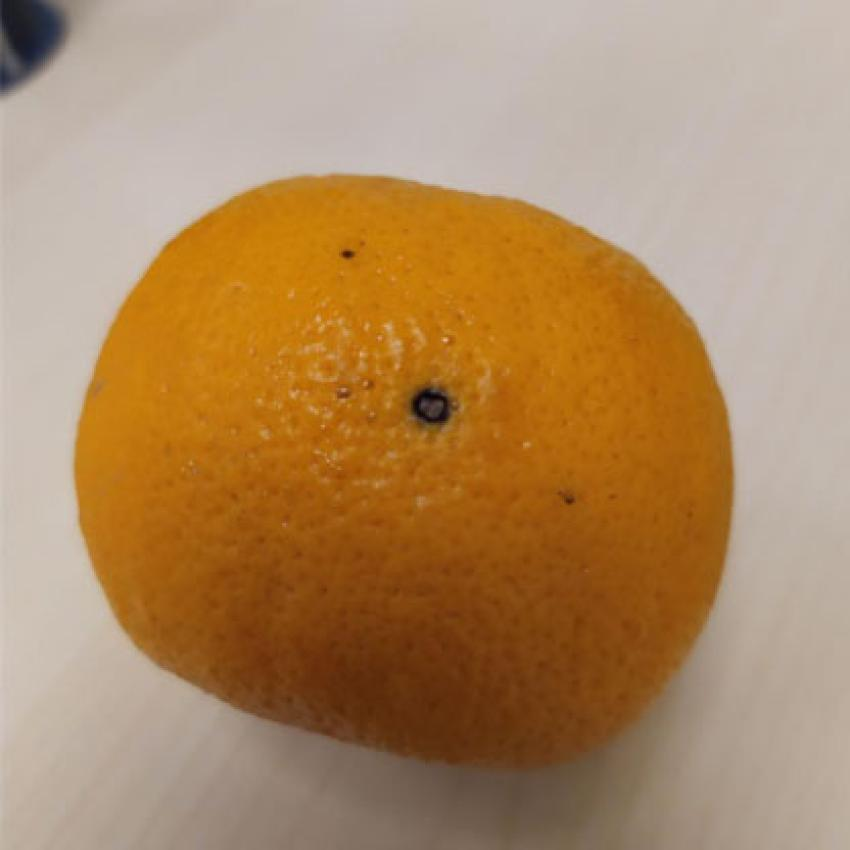Mal estado: (66, 142, 742, 783)
